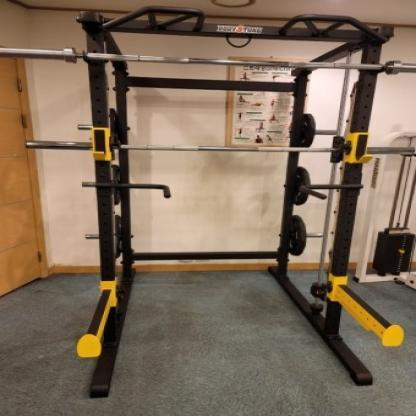smith machine: (76, 4, 407, 399)
